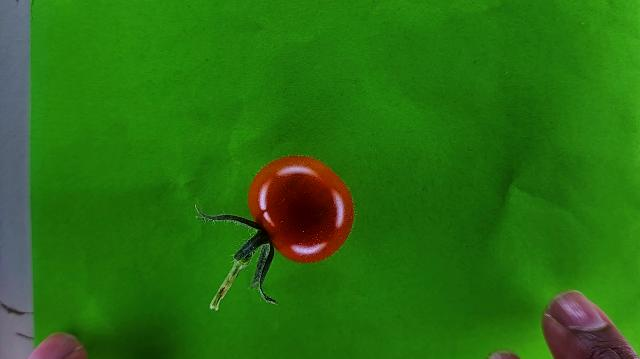Fully Grown: (247, 154, 356, 264)
